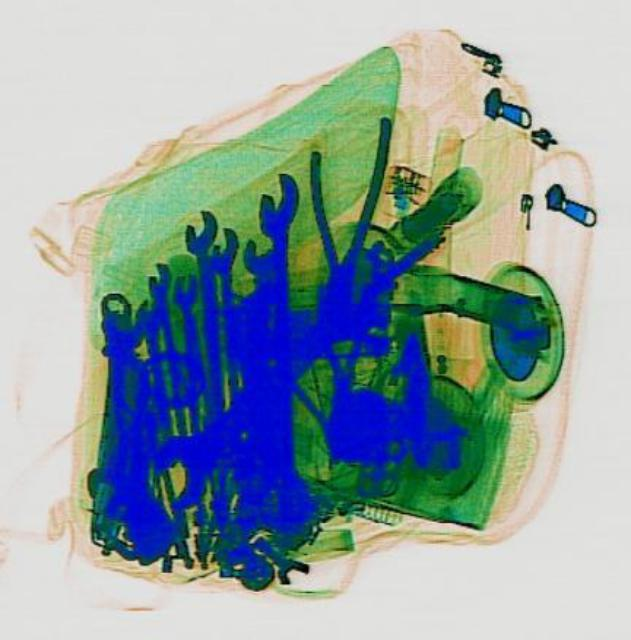Pliers: (295, 112, 390, 314)
Wrench: (127, 296, 360, 514), (78, 288, 173, 566), (252, 170, 303, 342), (180, 206, 225, 398), (204, 225, 247, 402), (143, 260, 177, 344), (168, 272, 198, 362)
